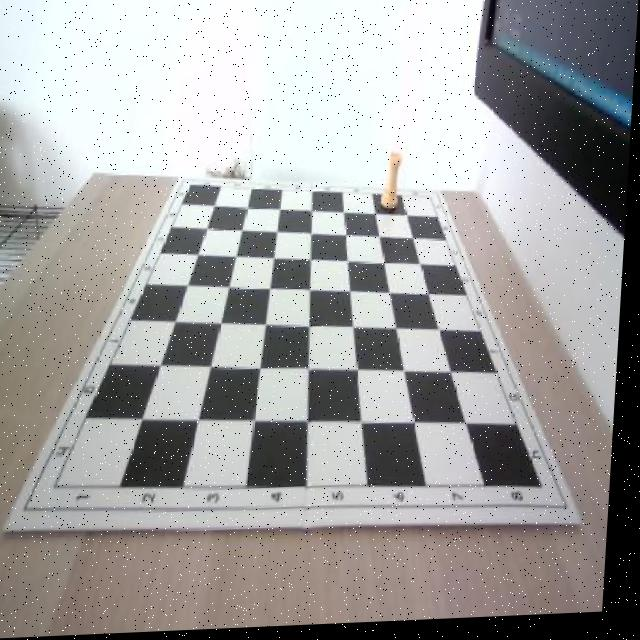white-queen: (383, 153, 406, 215)
